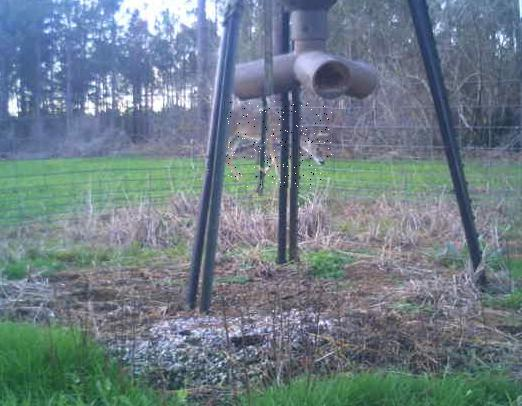Deer: (226, 102, 331, 189)
